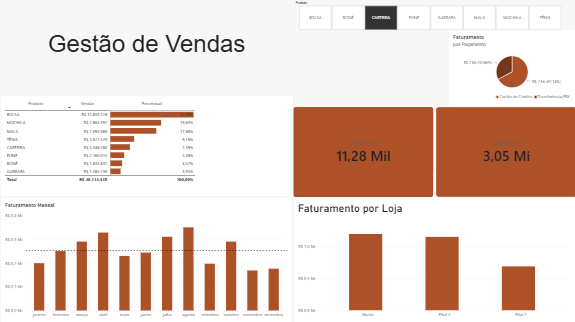

The page's visual inventory and layout, read from the dashboard file:
{"tool":"powerbi","page":{"name":"Página 1","canvas":[1920,1080],"ordinal":0},"visuals":[{"type":"cardVisual","fields":{"Data":["Sum(Vendas.Total)"]},"box":[1452.5,357.5,468.7,298.1],"z":0},{"type":"cardVisual","fields":{"Data":["Avg(Vendas.Total)"]},"box":[977.5,355,468.7,300.2],"z":1000},{"type":"clusteredColumnChart","title":"Faturamento Mensal","fields":{"Category":["Vendas.Data Pedido.Variation.Hierarquia de datas.Mês"],"Y":["Sum(Vendas.Total)"]},"box":[0,655,976.3,423.4],"z":2000},{"type":"pieChart","title":"Faturamento","fields":{"Category":["Vendas.Pagamento"],"Y":["Sum(Vendas.Total)"]},"box":[1492.5,100,427.5,257.5],"z":3000},{"type":"clusteredColumnChart","title":"Faturamento por Loja","fields":{"Category":["Lojas.nome_loja"],"Y":["Sum(Vendas.Total)"]},"box":[977.5,655,942.5,422.5],"z":4000},{"type":"tableEx","fields":{"Values":["Vendas.Produto","Sum(Vendas.Total)","Divide(Sum(Vendas.Total), ScopedEval(Sum(Vendas.Total), []))"]},"box":[0,315,977.5,340],"z":5000},{"type":"slicer","fields":{"Values":["Vendas.Produto"]},"box":[976.7,1.7,913.3,98.3],"z":6000},{"type":"textbox","box":[0,100,977.5,95],"z":6001}]}

Visuals, with their boxes in screenshot pixels (x1, y1, x2, y2), scaled from the page's 1920x1080 canvas onto the 575x322 screenshot:
cardVisual - Sum(Vendas.Total): {"left": 435, "top": 107, "right": 574, "bottom": 195}
cardVisual - Avg(Vendas.Total): {"left": 293, "top": 106, "right": 433, "bottom": 195}
"Faturamento Mensal" clusteredColumnChart: {"left": 0, "top": 195, "right": 292, "bottom": 321}
"Faturamento" pieChart: {"left": 447, "top": 30, "right": 574, "bottom": 107}
"Faturamento por Loja" clusteredColumnChart: {"left": 293, "top": 195, "right": 574, "bottom": 321}
tableEx - Vendas.Produto x Sum(Vendas.Total): {"left": 0, "top": 94, "right": 293, "bottom": 195}
slicer - Vendas.Produto: {"left": 293, "top": 1, "right": 566, "bottom": 30}
textbox: {"left": 0, "top": 30, "right": 293, "bottom": 58}
